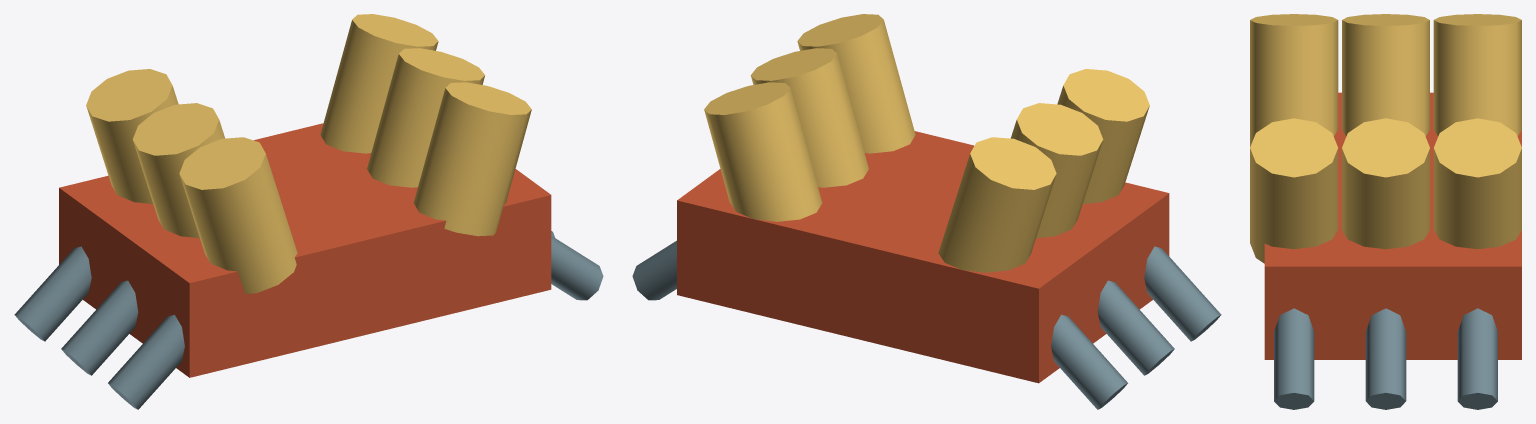
Rendered from upgrade-salvage_v6.glb.
The picture shows the model from 3 angles, left to right: view 1: azimuth 30°, elevation 25°; view 2: azimuth 150°, elevation 25°; view 3: azimuth 270°, elevation 25°; orthographic projection.
Visible parts, largest first — view 1: upgrade-salvage_v6; view 2: upgrade-salvage_v6; view 3: upgrade-salvage_v6.
Boxes of the visible parts, bbox=[...] form: upgrade-salvage_v6: bbox=[14, 14, 603, 409]; upgrade-salvage_v6: bbox=[632, 14, 1221, 409]; upgrade-salvage_v6: bbox=[1250, 14, 1521, 409].
Bounding box in the file's own units: 1.51 × 0.6949 × 0.74.
